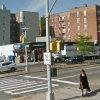Crosswalk: (4, 64, 56, 100)
